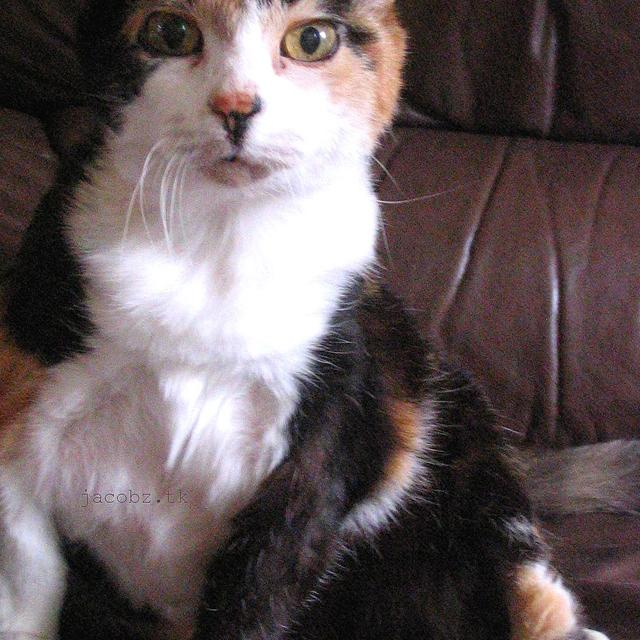animals: (84, 0, 416, 137)
